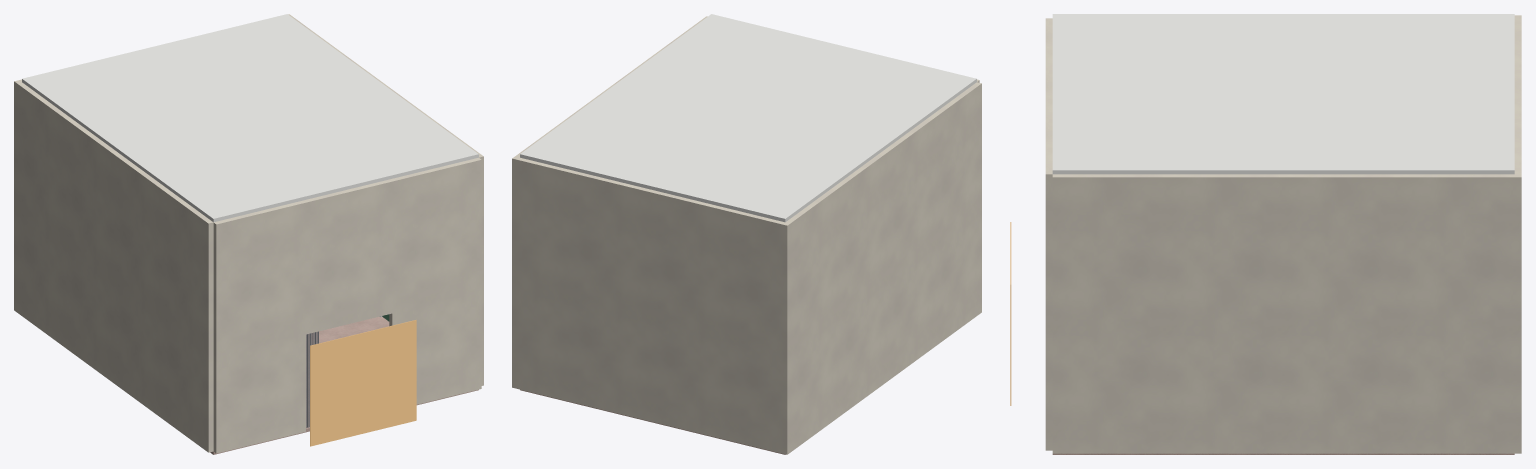
The model's file is room_office_stairs.glb.
3 renders of one model, left to right at view 1: azimuth 30°, elevation 25°; view 2: azimuth 150°, elevation 25°; view 3: azimuth 270°, elevation 25°, orthographic. The views are drawn at different scales.
Parts seen in each view (by area): view 1: Room; view 2: Room; view 3: Room.
Part boxes in pixels (x1,y1,x2,y2): Room: (14, 14, 483, 454); Room: (512, 14, 981, 454); Room: (1010, 14, 1521, 454).
Size of the model in its own units: 8.3 by 6.8 by 11.06.
Materials: 28 (3 with a texture image).
